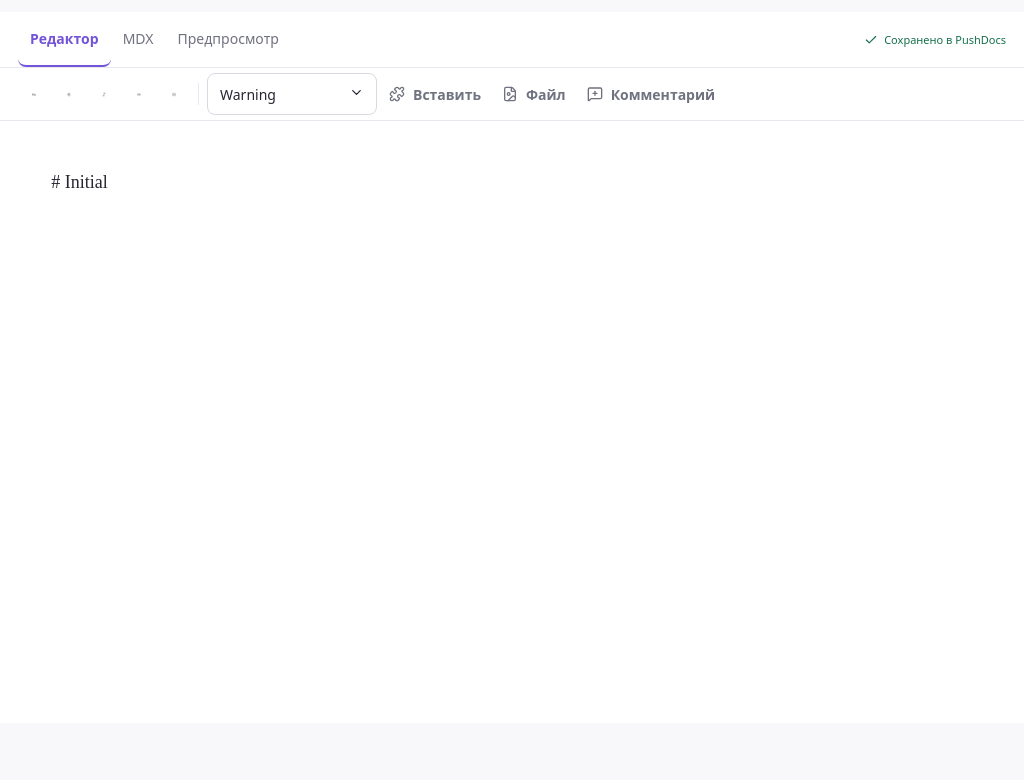
Test: DocumentEditor modes and formatting › switches between editor, source, and preview
This screenshot has width=1024, height=780.
Click the tab "MDX" at (138, 40), box x1=111 y1=12 x2=165 y2=67
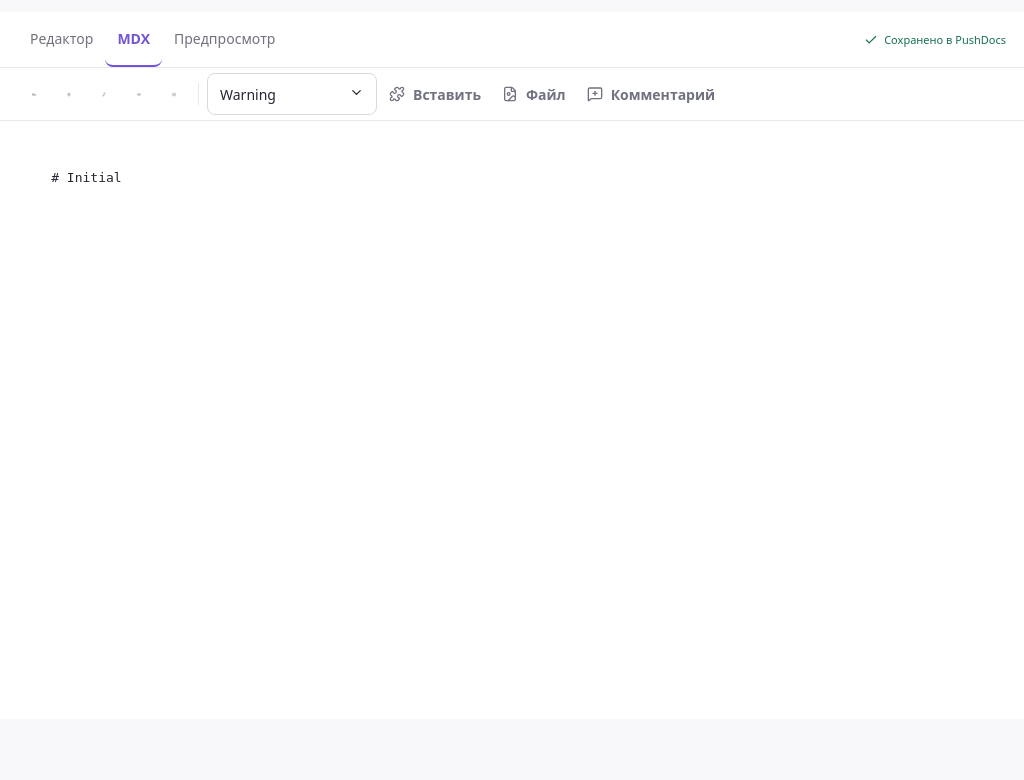
Now the text box named "Исходник MDX" has class "source-editor"
Click the tab "Предпросмотр" at (225, 40), box x1=162 y1=12 x2=288 y2=67
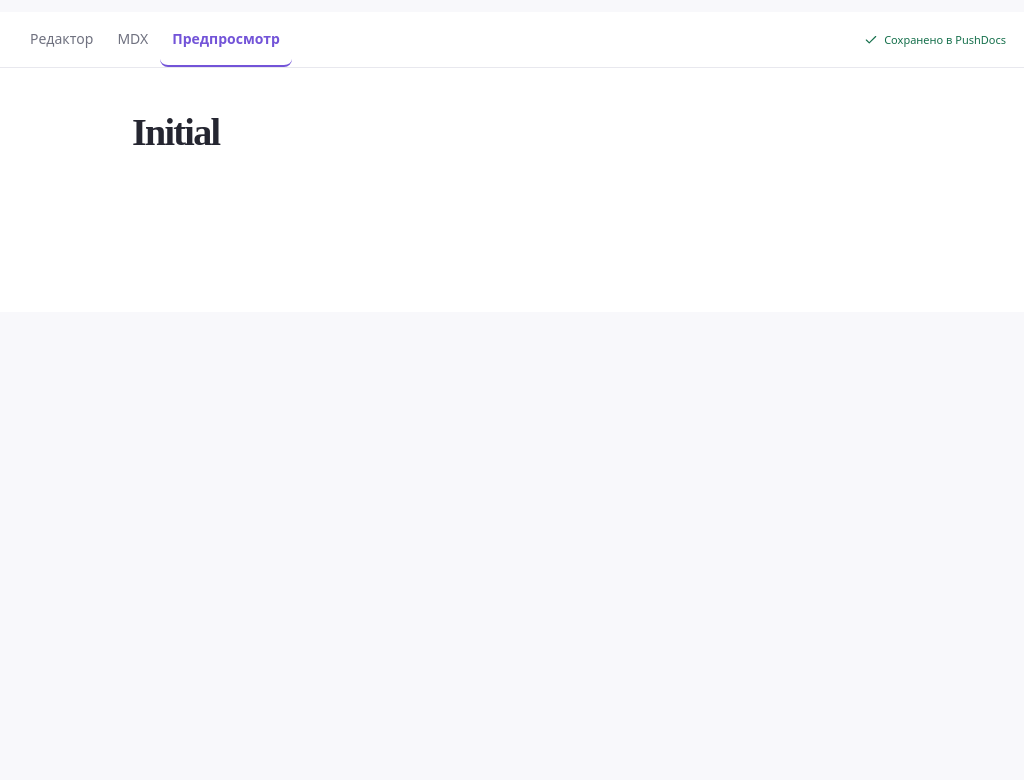
Now the heading "Initial" is shown, box x1=132 y1=111 x2=219 y2=153
Now the element "Форматирование" is gone
